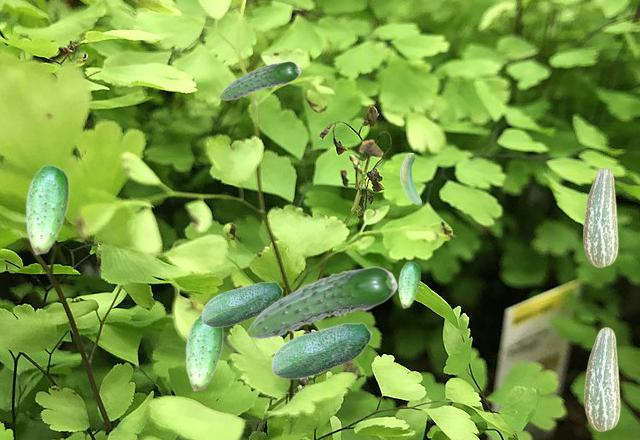cucumber: (246, 266, 397, 338), (271, 322, 371, 378), (25, 164, 68, 254), (201, 281, 282, 326), (584, 327, 619, 430), (583, 167, 617, 266), (219, 61, 300, 99), (185, 314, 222, 390), (400, 153, 420, 203), (398, 261, 419, 307)
